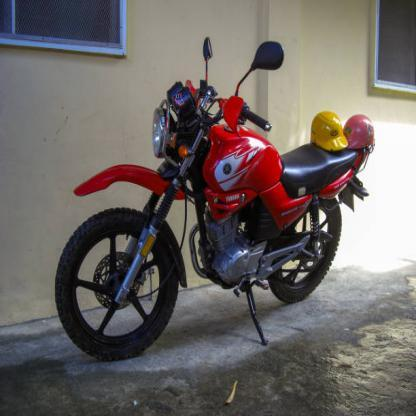Motorcycle: (52, 24, 379, 360)
